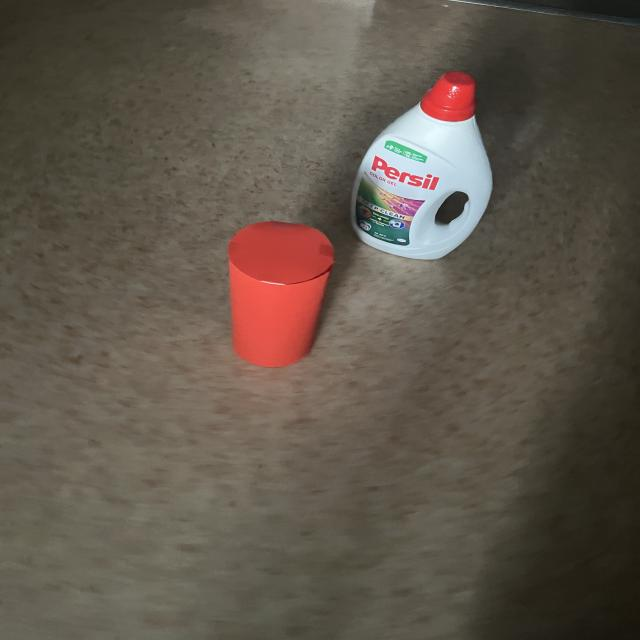przeszkoda: (228, 222, 334, 367)
